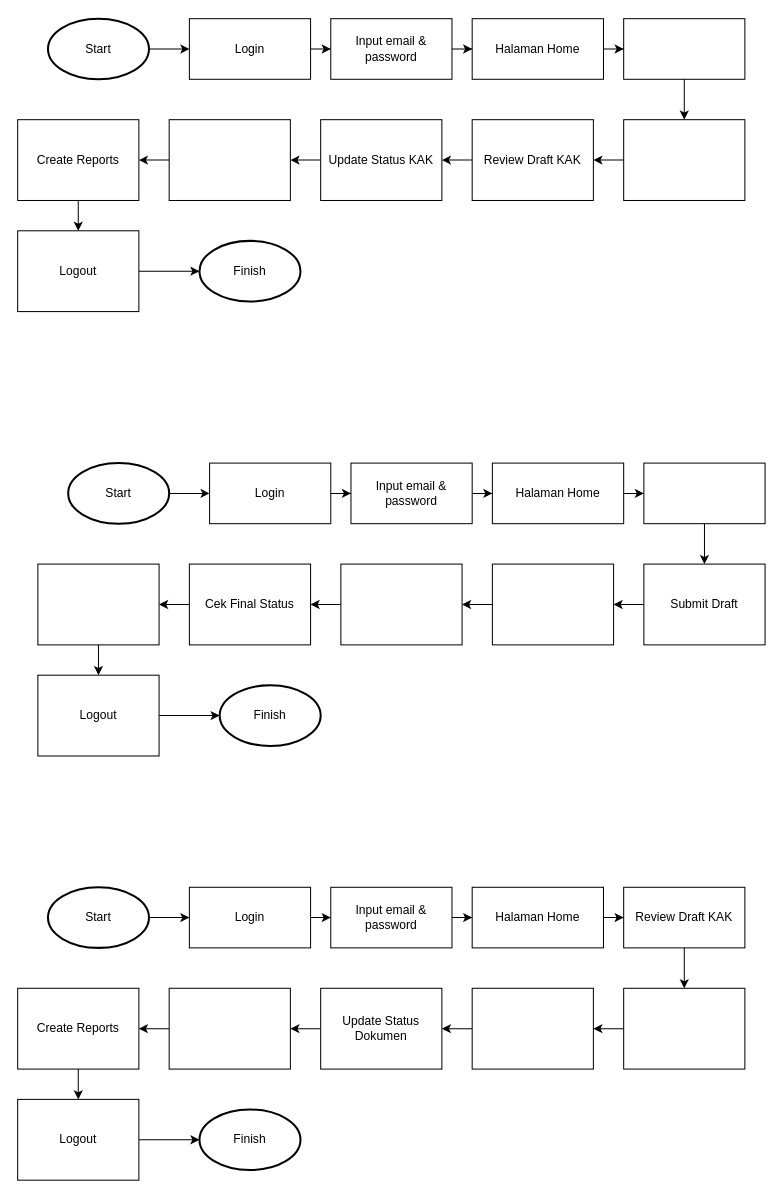
Some shapes in this 783 by 1198 pixel diagram are drawn without their labels. Here are the shapes that lost their labels. From the top down, the centre of each, then its label:
[684,48]: Manage Users (CRUD)
[229,159]: Generate KAK Document
[684,159]: Manage Categories (CRUD)
[704,493]: Buat Draft KAK
[98,604]: Lihat/Unduh Dokumen KAK
[401,604]: Revisi Draft KAK
[552,604]: Cek Status KAK
[229,1028]: Generate Dokumen KAK
[532,1028]: Approve atau Reject KAK
[684,1028]: Berikan Masukan atau Revisi
